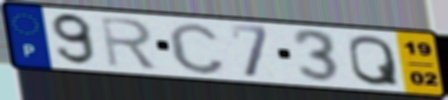3: (293, 27, 340, 85)
7: (228, 22, 271, 81)
9: (48, 11, 99, 68)
C: (165, 20, 228, 76)
Q: (347, 33, 403, 88)
R: (97, 15, 160, 71)
